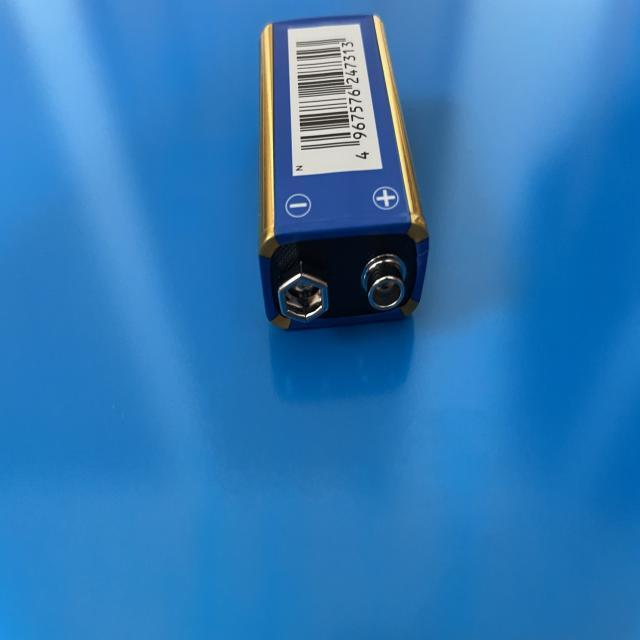9V: (254, 13, 428, 334)
